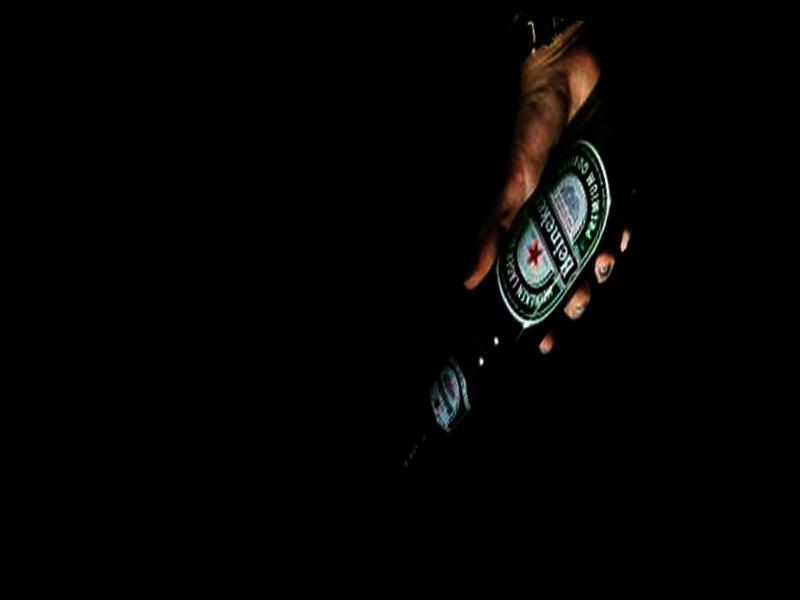Beer: (392, 54, 660, 513)
